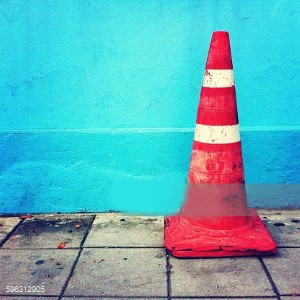traffic cone: (164, 31, 277, 259)
